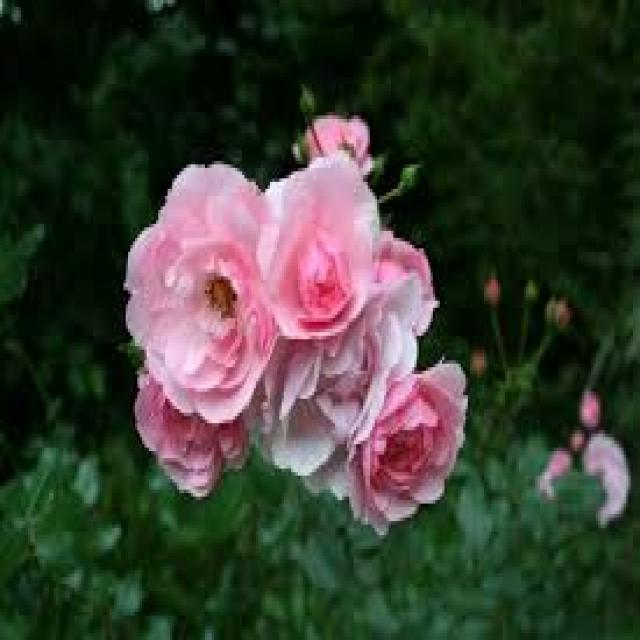rose: (121, 146, 283, 414)
